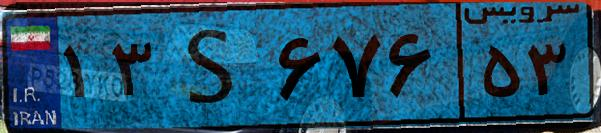1: (57, 26, 110, 100)
3: (525, 38, 570, 115), (110, 28, 158, 98)
5: (475, 38, 525, 113)
6: (270, 28, 330, 110), (385, 28, 445, 110)
7: (330, 28, 385, 110)
S: (158, 12, 270, 120)
